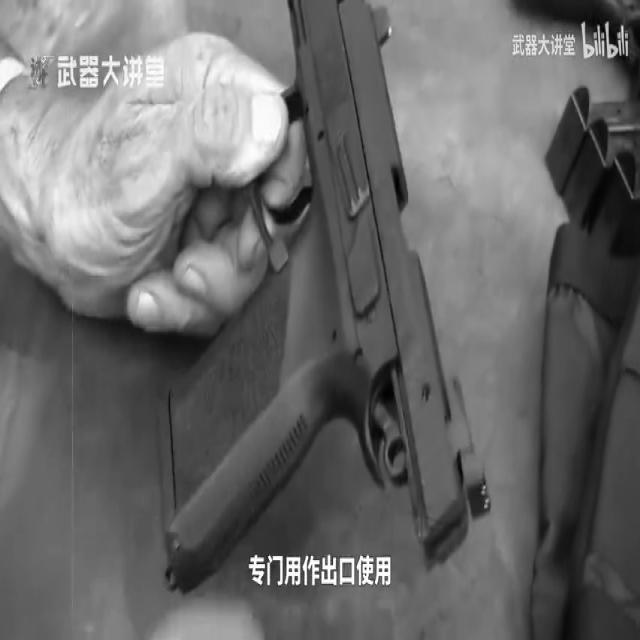Hand-Gun: (129, 0, 498, 560)
